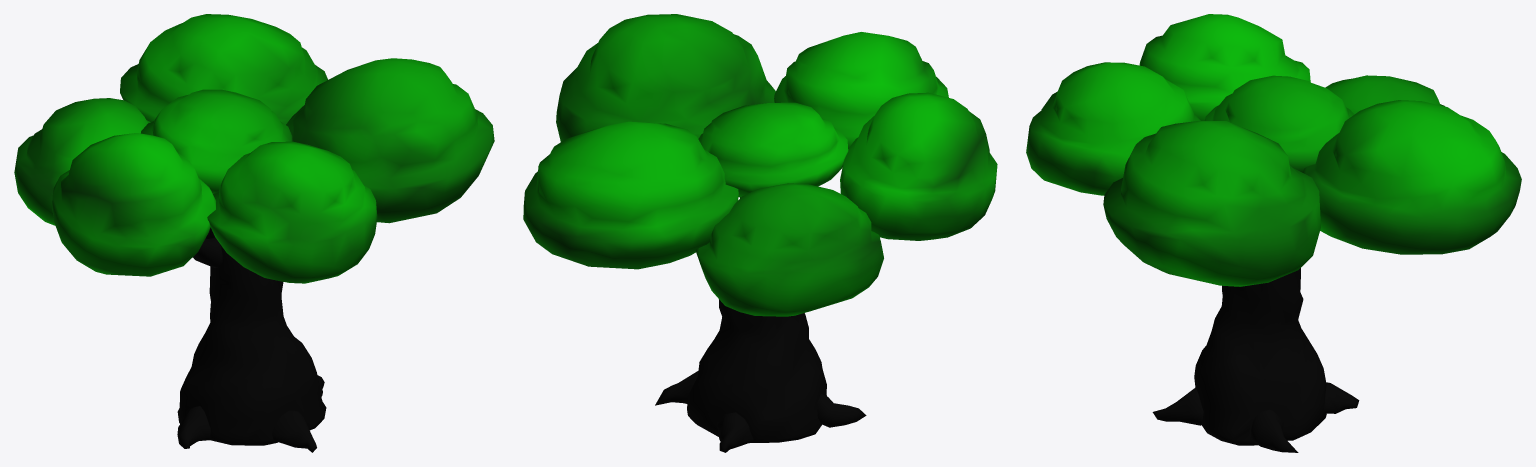
The model's file is TreeBig.FBX.
The picture shows the model from 3 angles, left to right: view 1: azimuth 30°, elevation 25°; view 2: azimuth 150°, elevation 25°; view 3: azimuth 270°, elevation 25°; orthographic projection.
Parts seen in each view (by area): view 1: TreeBig; view 2: TreeBig; view 3: TreeBig.
Boxes of the visible parts, x1=… form: TreeBig: x1=14, y1=14, x2=494, y2=452; TreeBig: x1=523, y1=14, x2=997, y2=452; TreeBig: x1=1026, y1=14, x2=1521, y2=452.
Size of the model in its own units: 2027 by 1631 by 2132.
